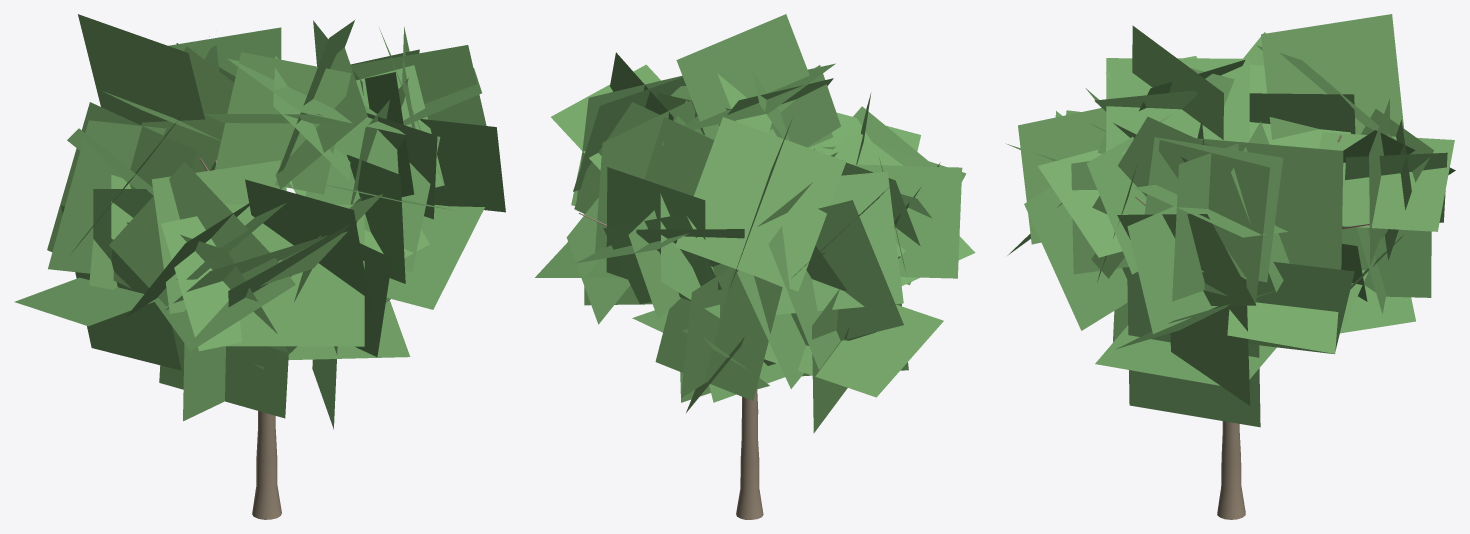
The model's file is tree_street_small.glb.
The picture shows the model from 3 angles, left to right: view 1: azimuth 30°, elevation 25°; view 2: azimuth 150°, elevation 25°; view 3: azimuth 270°, elevation 25°; orthographic projection. The views are drawn at different scales.
Parts seen in each view (by area): view 1: tree_street_small; view 2: tree_street_small; view 3: tree_street_small.
Part boxes in pixels (x1,y1,x2,y2): tree_street_small: [14, 14, 505, 519]; tree_street_small: [535, 14, 975, 519]; tree_street_small: [1005, 14, 1455, 519].
Bounding box in the file's own units: 4.3 × 5.12 × 4.25.
